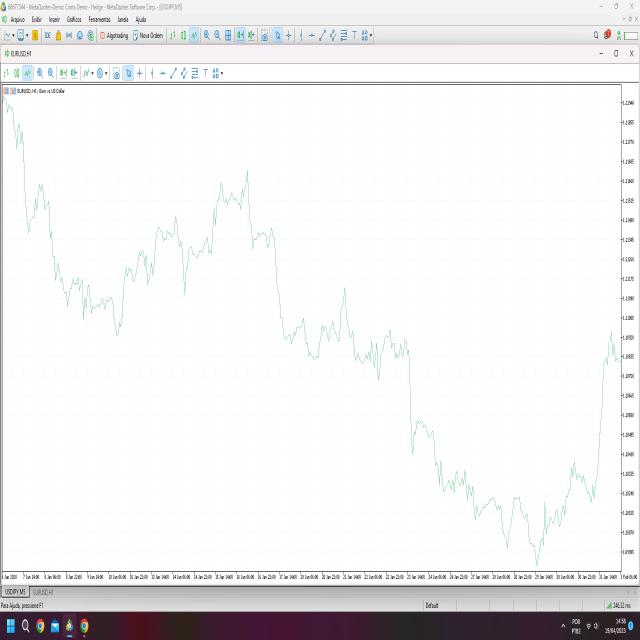bandeira_baixa: (399, 322, 441, 464)
oco: (25, 169, 57, 245)
topo_duplo: (198, 142, 266, 274)
